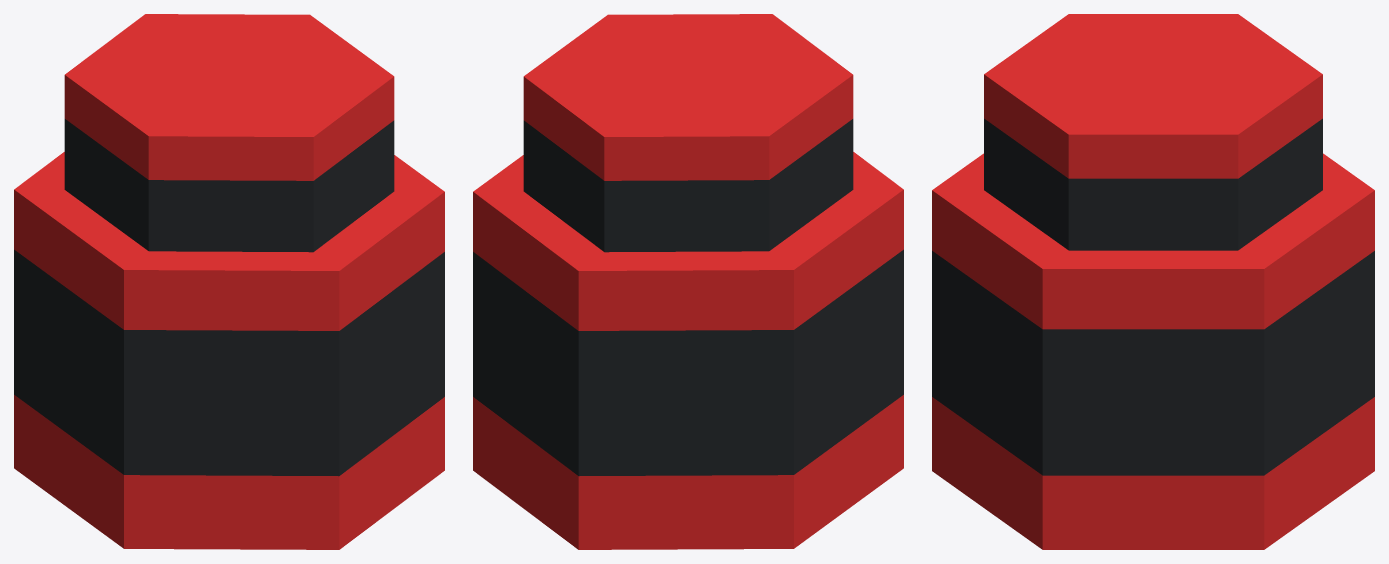
File: tank_1.FBX
3 renders of one model, left to right at view 1: azimuth 30°, elevation 25°; view 2: azimuth 150°, elevation 25°; view 3: azimuth 270°, elevation 25°, orthographic.
Parts seen in each view (by area): view 1: tank_1; view 2: tank_1; view 3: tank_1.
Boxes of the visible parts, x1,y1,x2,y2 form: tank_1: (14,14,444,549); tank_1: (473,14,903,549); tank_1: (932,14,1374,549).
Size of the model in its own units: 7.34 by 8.61 by 8.7.
